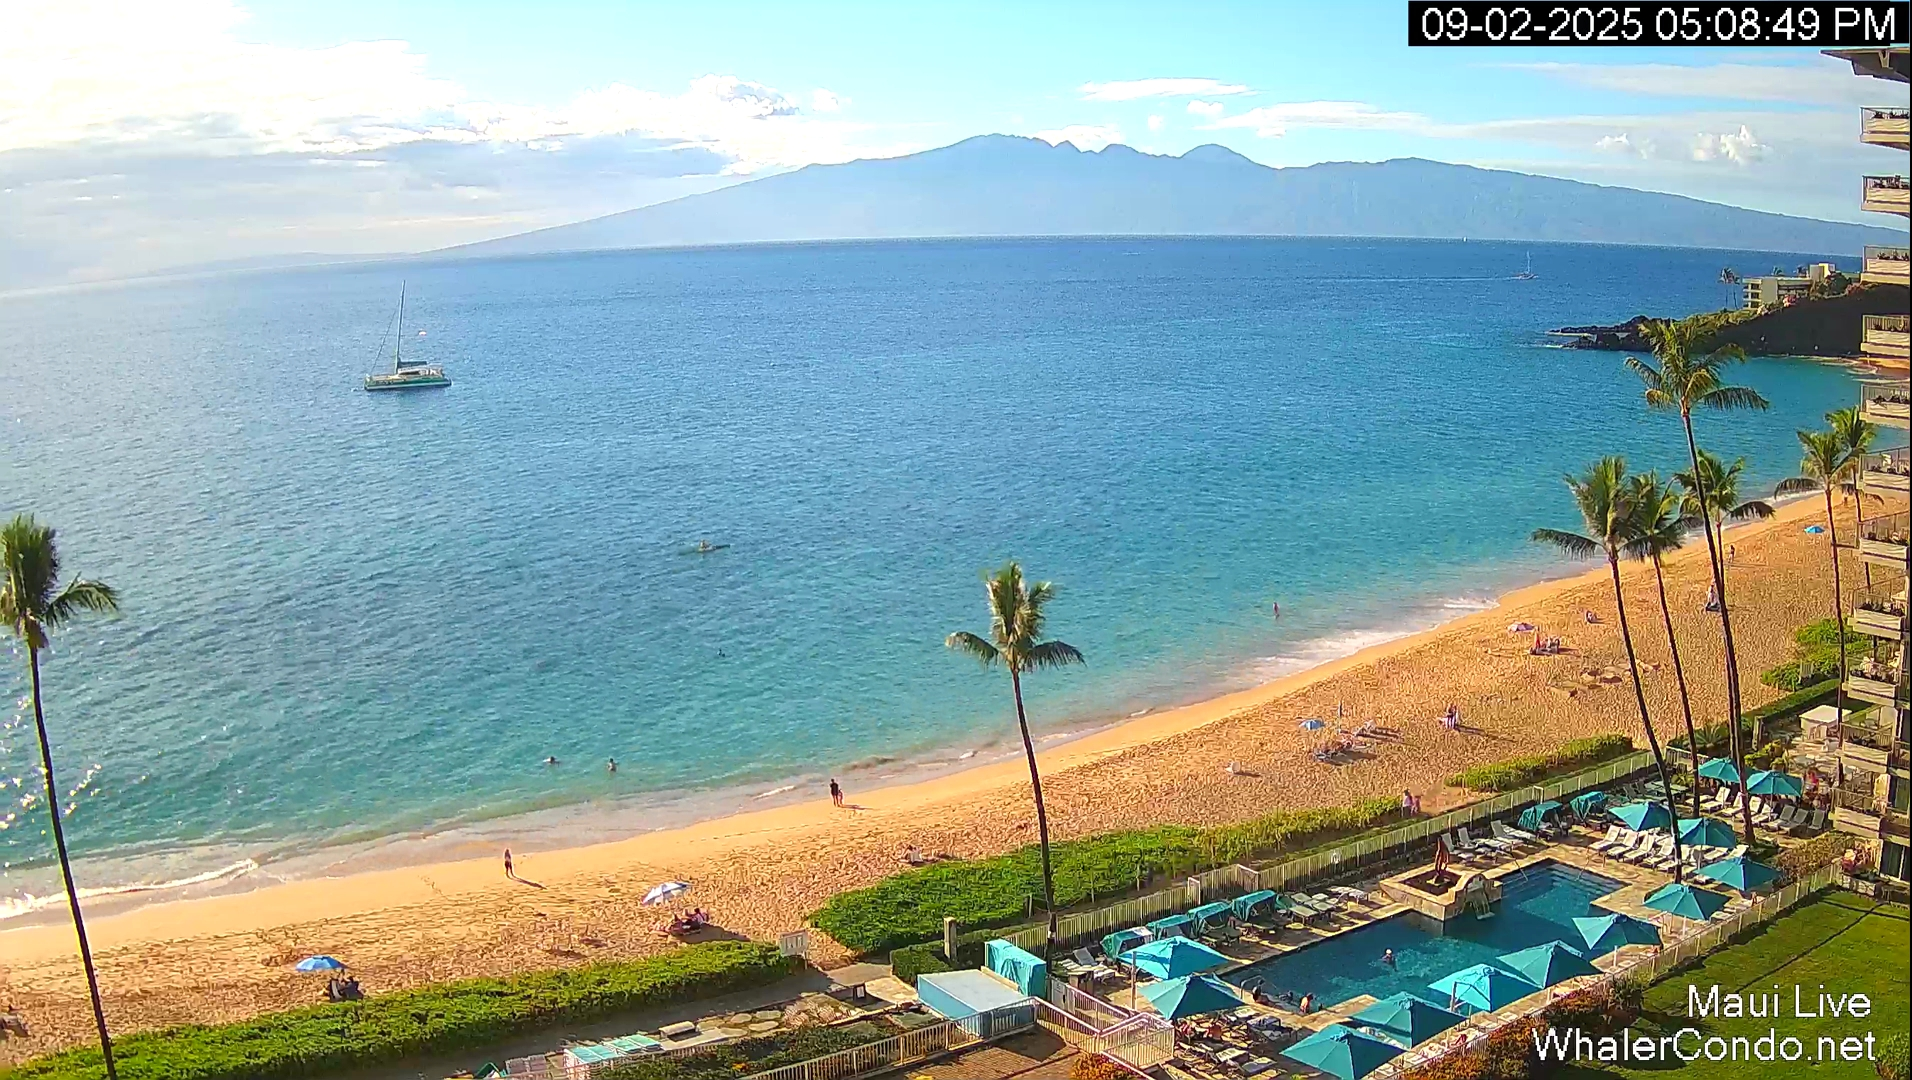boat: (364, 279, 452, 391), (442, 1031, 639, 1079), (1504, 250, 1538, 281)
person: (681, 908, 707, 931), (1401, 789, 1414, 818), (1299, 993, 1315, 1014), (829, 778, 840, 807), (504, 848, 514, 878), (1381, 948, 1397, 965), (837, 788, 846, 807), (607, 757, 617, 771), (544, 756, 560, 764), (1273, 601, 1280, 619)
surfboard: (838, 804, 876, 810)
